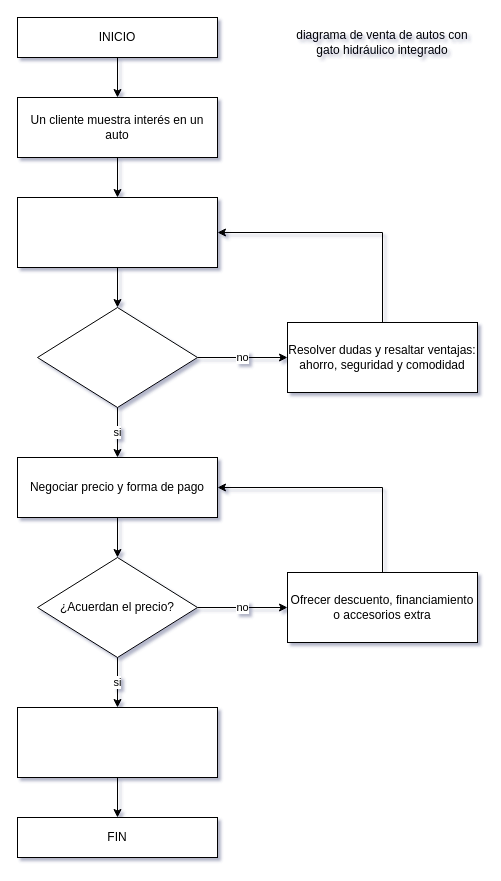
This 501x881 diagram has some shape labels left out. The centre of each missing label's shape, as x and y in pixels:
"Firmar contrato y entregar el auto con el manual del gato hidráulico" goes at [117,742].
"Presentar el auto y demostrar el gato hidráulico integrado" goes at [117,232].
"¿Le interesa al cliente?" goes at [117,357].
